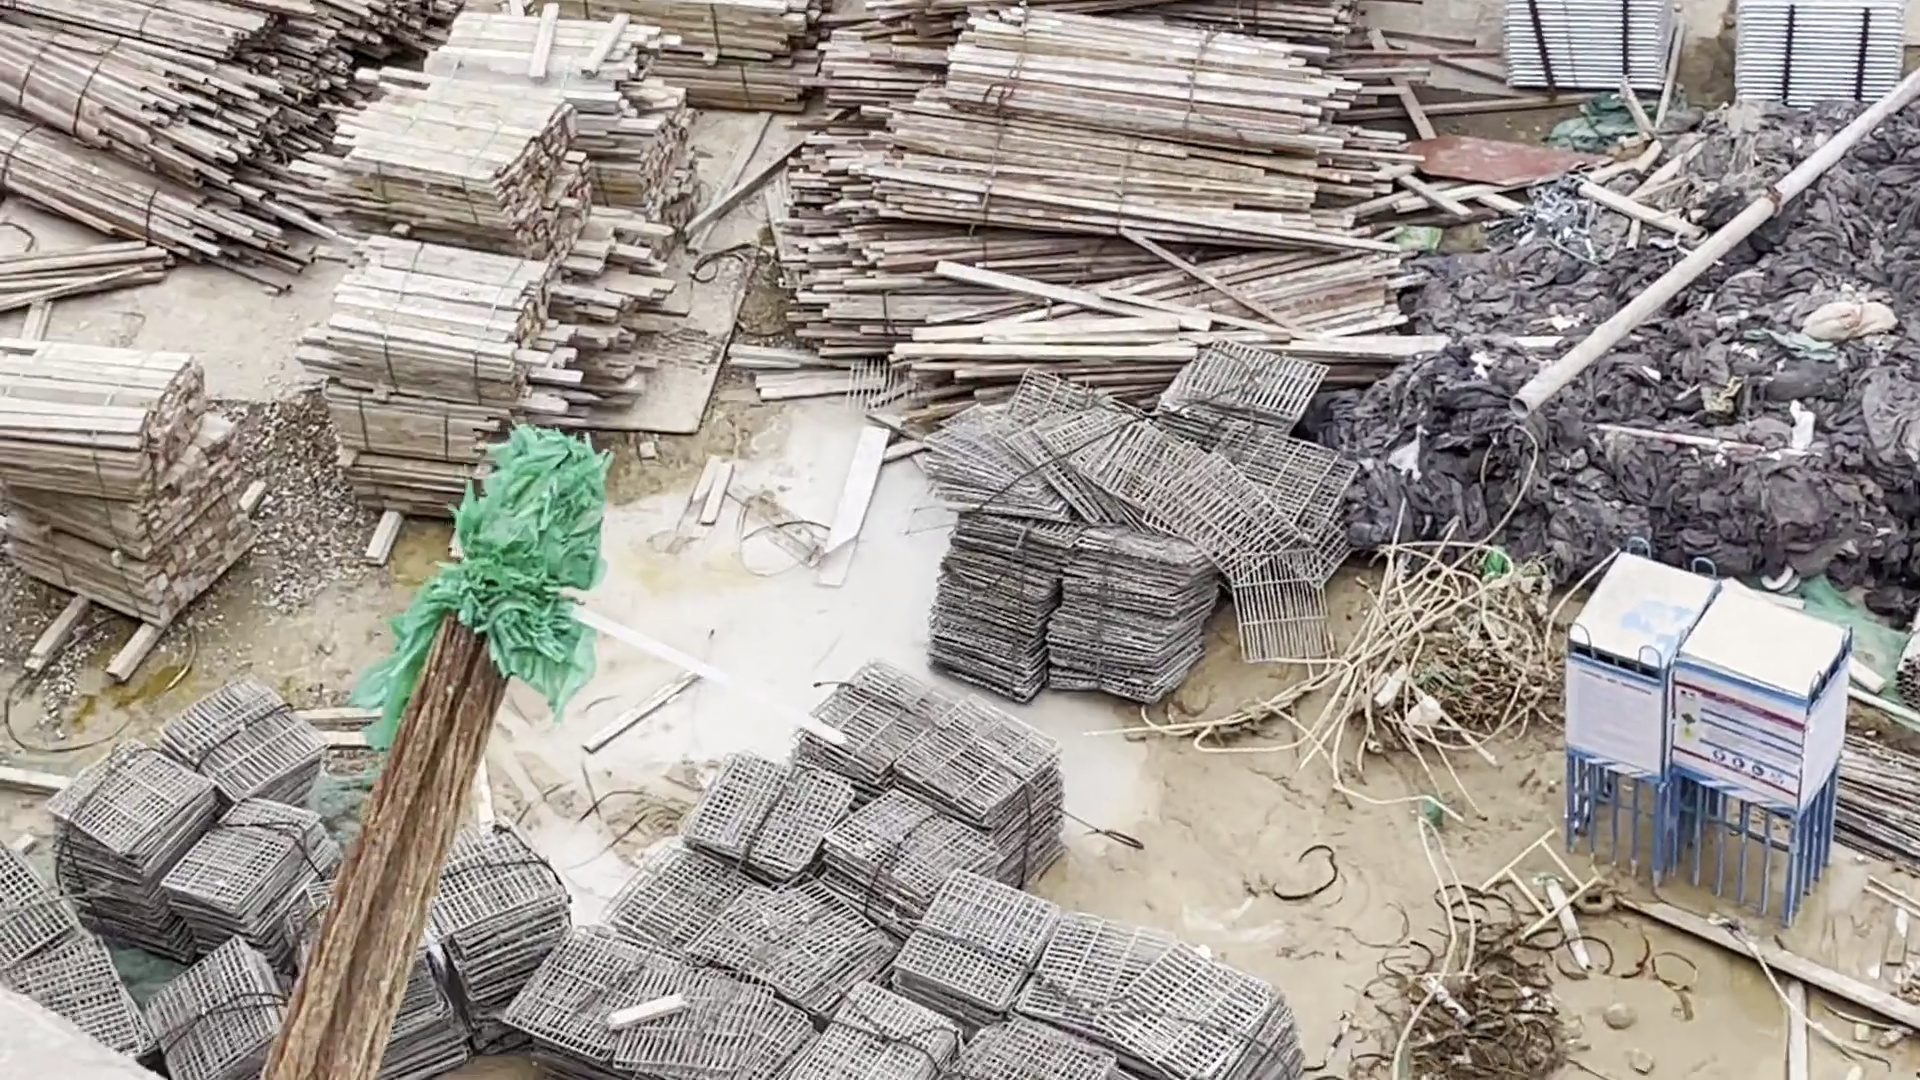scaffold: (1498, 1, 1689, 95), (1727, 1, 1903, 100)
wood: (297, 1, 815, 527), (816, 1, 1458, 381), (1, 1, 335, 295), (1, 351, 245, 629)
